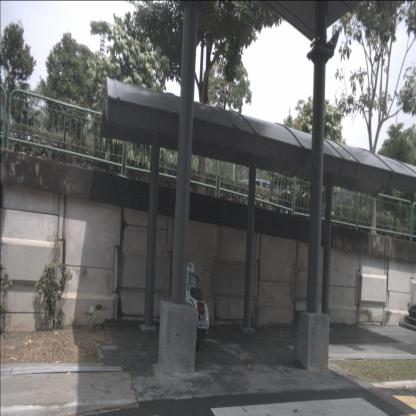vehicle-motorcycle: (174, 262, 210, 352)
